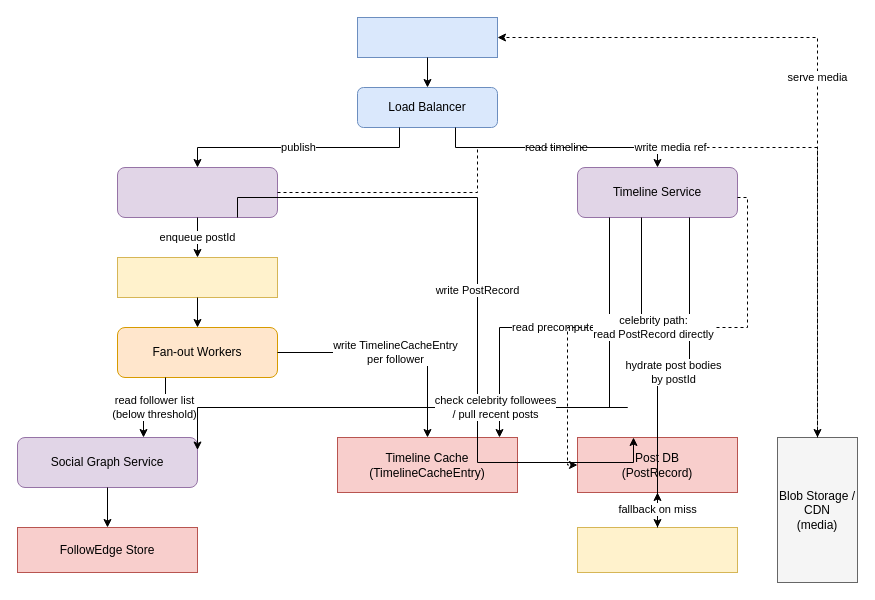
This 875x600 diagram has some shape labels left out. Each missing label, with the box of its shape:
Client: (356, 16, 498, 58)
Content Cache: (576, 526, 738, 572)
Fan-out Queue: (116, 256, 278, 298)
Post Service: (116, 166, 278, 218)
